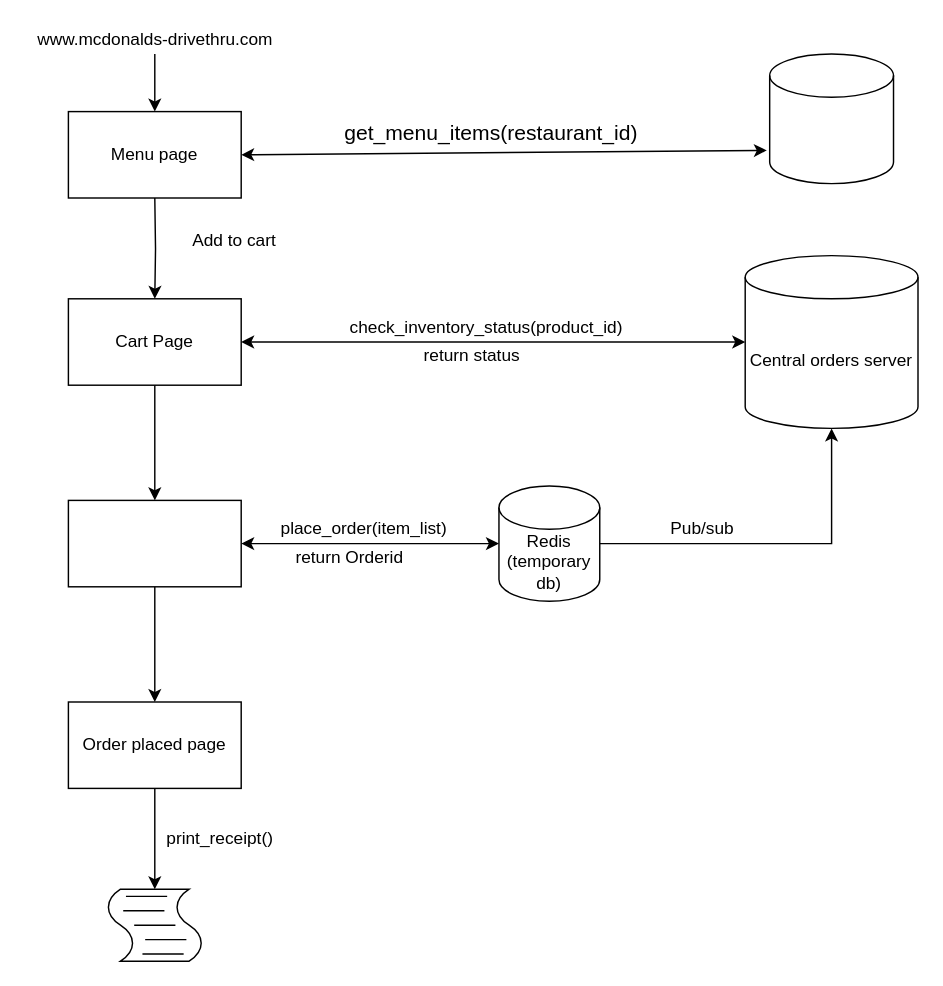
Some shapes in this 943 by 986 pixel diagram are drawn without their labels. Here are the shapes that lost their labels. From the top down, the box of each, then its label:
(768, 53, 894, 184): AEM
(67, 499, 241, 587): Checkout page
